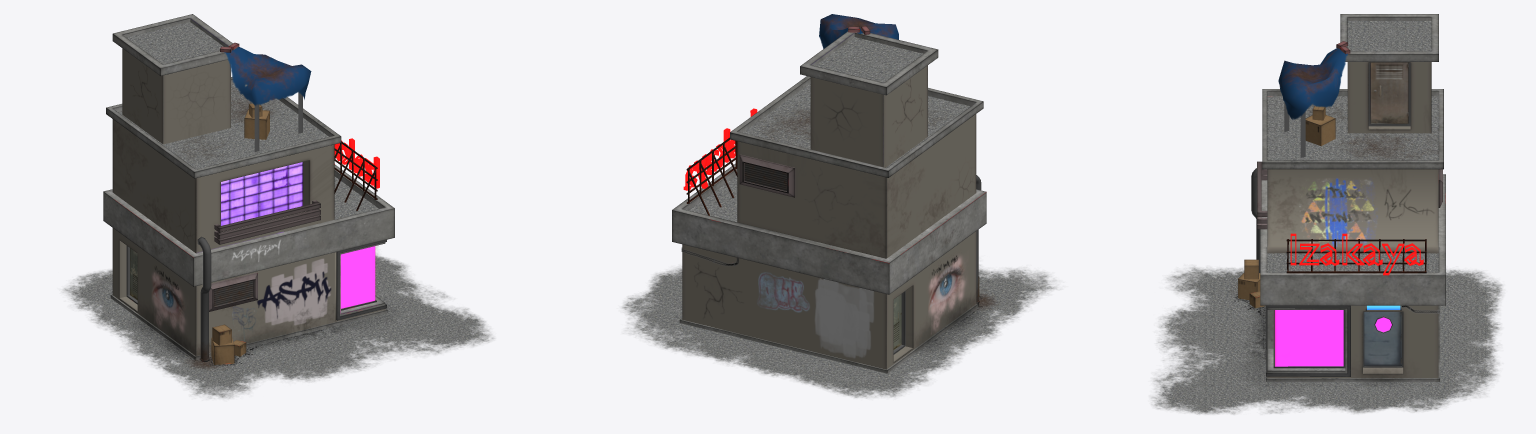
The picture shows the model from 3 angles, left to right: view 1: azimuth 30°, elevation 25°; view 2: azimuth 150°, elevation 25°; view 3: azimuth 270°, elevation 25°; orthographic projection. The views are drawn at different scales.
Visible parts, largest first — view 1: Base Building, Floor, Cloth, railing, Vent, Pipe, sign support, Sign, Box02, Box03; view 2: Base Building, Floor, Vent02, Cloth, sign support, Sign; view 3: Base Building, Floor, Cloth, Sign, sign support, Box02, railing, Pipe, Box03.
Part boxes in pixels (<box>): Base Building: <box>103,14,394,359</box>; Floor: <box>62,247,494,398</box>; Cloth: <box>224,47,311,105</box>; railing: <box>214,200,320,244</box>; Vent: <box>209,272,257,311</box>; Pipe: <box>197,236,211,361</box>; sign support: <box>334,141,377,210</box>; Sign: <box>334,138,379,188</box>; Box02: <box>244,109,269,139</box>; Box03: <box>211,337,234,364</box>; Base Building: <box>672,31,986,373</box>; Floor: <box>622,265,1057,398</box>; Vent02: <box>739,154,795,197</box>; Cloth: <box>819,14,898,48</box>; sign support: <box>686,137,737,215</box>; Sign: <box>683,108,757,190</box>; Base Building: <box>1260,14,1445,381</box>; Floor: <box>1151,266,1502,414</box>; Cloth: <box>1278,48,1347,119</box>; Sign: <box>1290,233,1423,275</box>; sign support: <box>1286,239,1426,273</box>; Box02: <box>1305,115,1335,145</box>; railing: <box>1257,161,1267,229</box>; Pipe: <box>1251,168,1262,272</box>; Box03: <box>1238,273,1260,300</box>.
Size of the model in its own units: 1272 by 1005 by 1272.
Materials: 1 (1 with a texture image).
